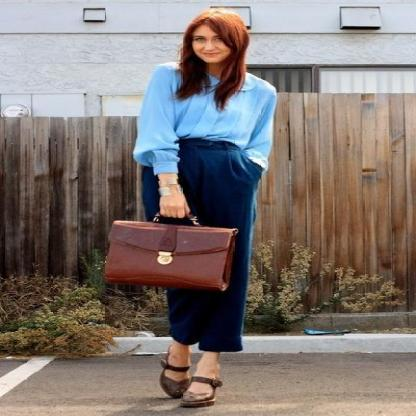bag: (95, 220, 237, 294)
pants: (138, 135, 263, 352)
shirt: (133, 67, 276, 174)
shoe: (160, 364, 222, 408)
